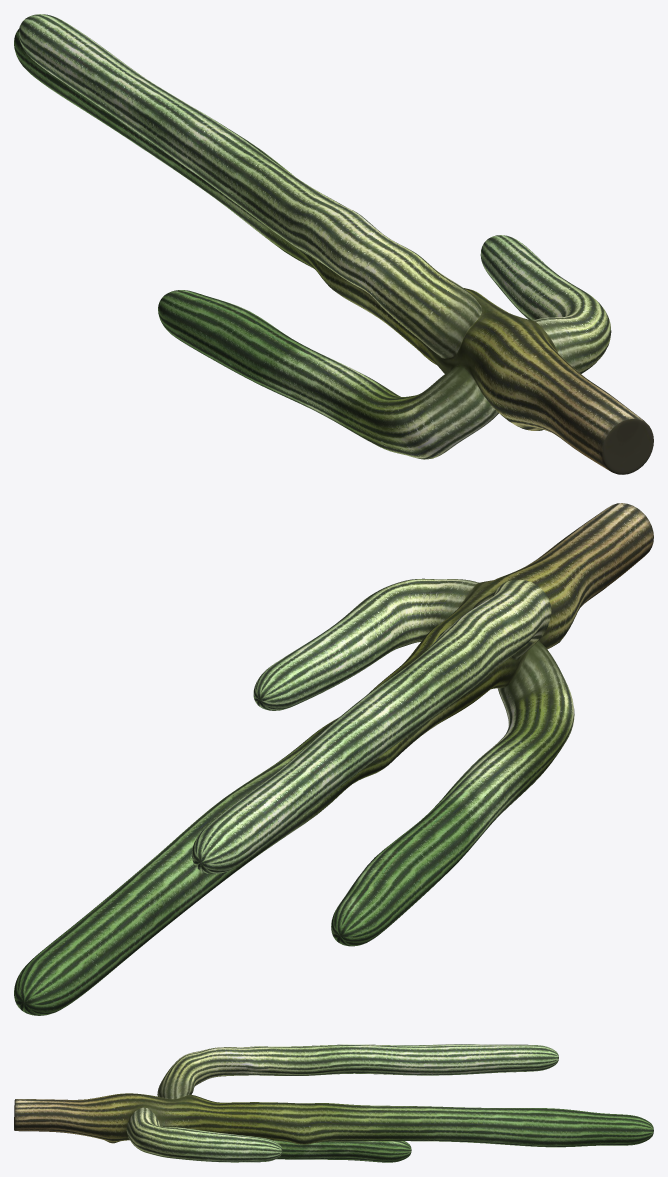
Rendered from cactus.glb.
3 views of the same model, one above another, from view 1: azimuth 30°, elevation 25°; view 2: azimuth 150°, elevation 25°; view 3: azimuth 270°, elevation 25° (orthographic). The views are drawn at different scales.
Parts seen in each view (by area): view 1: 10436_Cactus_v1_max2010_it2; view 2: 10436_Cactus_v1_max2010_it2; view 3: 10436_Cactus_v1_max2010_it2.
Boxes of the visible parts, x1,y1,x2,y2 form: 10436_Cactus_v1_max2010_it2: (14,14,653,474); 10436_Cactus_v1_max2010_it2: (14,503,653,1015); 10436_Cactus_v1_max2010_it2: (14,1044,653,1162).
Size of the model in its own units: 57.06 by 50.69 by 250.
Materials: 1 (1 with a texture image).
